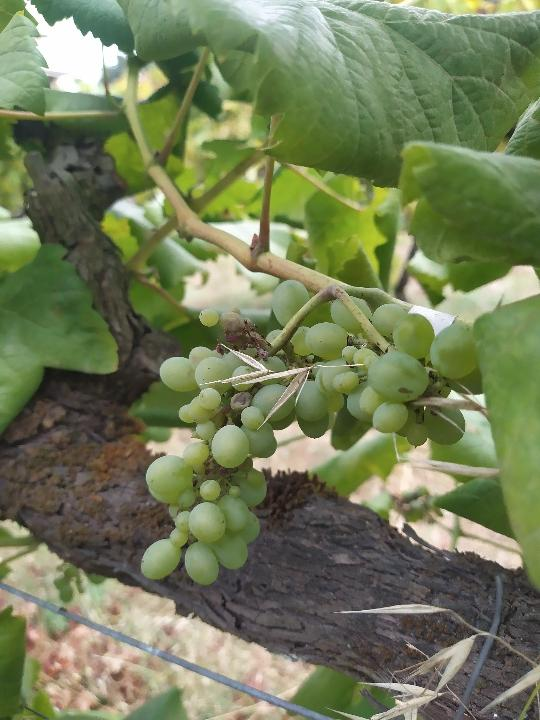grape: (129, 278, 468, 590)
